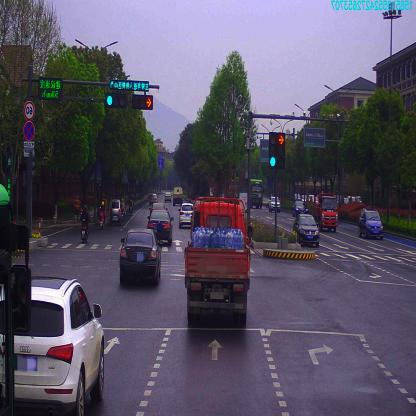traffic-light: (110, 80, 150, 90), (134, 93, 154, 108), (108, 92, 126, 107)
